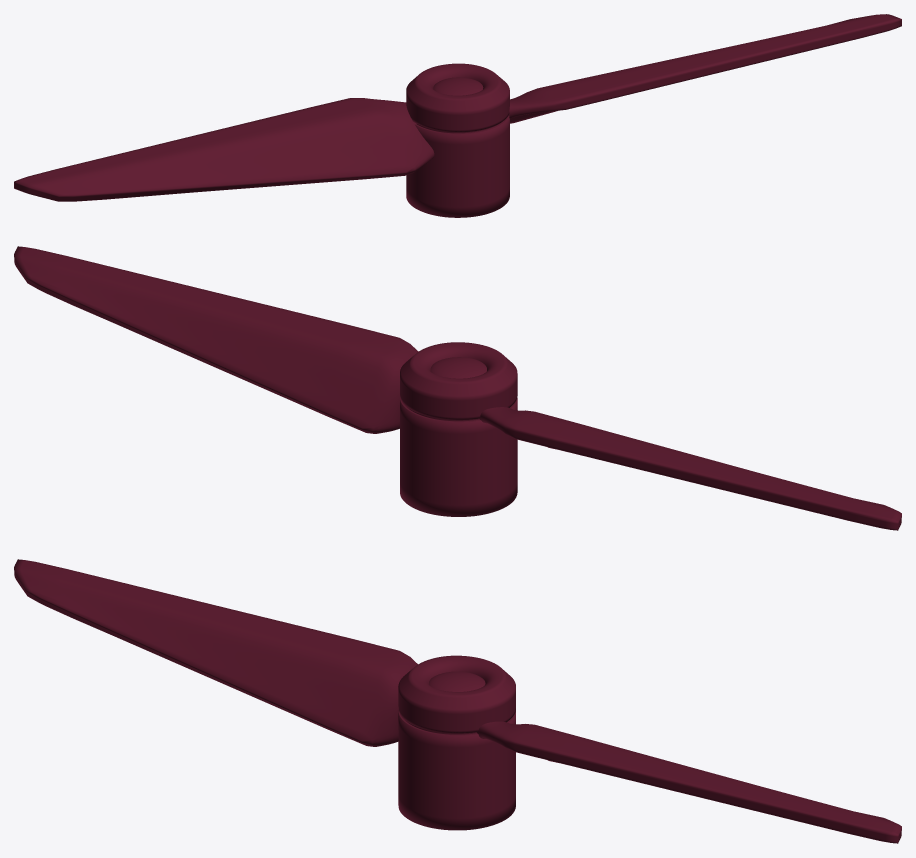
Rendered from propellor_03_red.8a1b97ab.glb.
3 views of the same model, one above another, from view 1: azimuth 30°, elevation 25°; view 2: azimuth 150°, elevation 25°; view 3: azimuth 330°, elevation 25° (orthographic). The views are drawn at different scales.
Parts seen in each view (by area): view 1: GEO_Propeller_03; view 2: GEO_Propeller_03; view 3: GEO_Propeller_03.
Part boxes in pixels (x1,y1,x2,y2): GEO_Propeller_03: (14,14,901,217); GEO_Propeller_03: (14,246,901,530); GEO_Propeller_03: (14,559,901,843).
Bounding box in the file's own units: 4.61 × 0.6106 × 0.5583.
